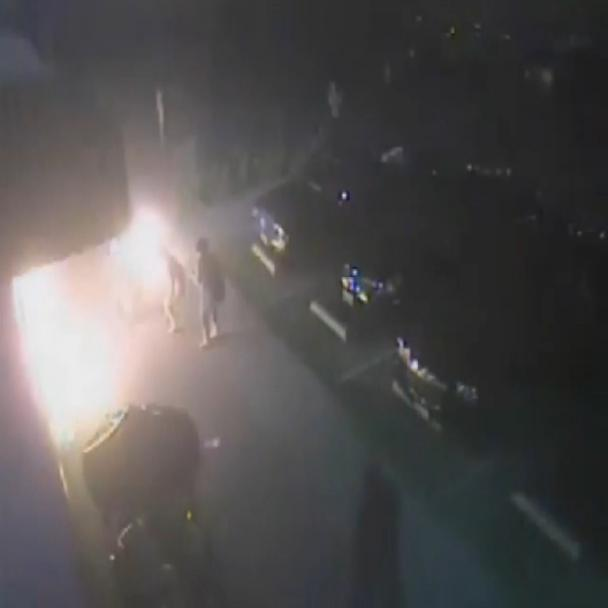Fire: (0, 163, 195, 511)
